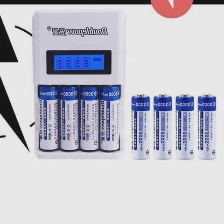battery: (95, 83, 122, 151), (76, 83, 102, 152), (36, 82, 60, 152), (195, 92, 218, 162), (151, 90, 173, 161), (58, 83, 80, 153), (173, 92, 195, 161), (130, 91, 151, 160)
